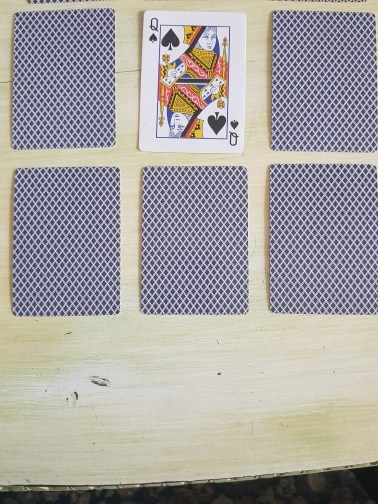queen: (137, 10, 248, 154)
